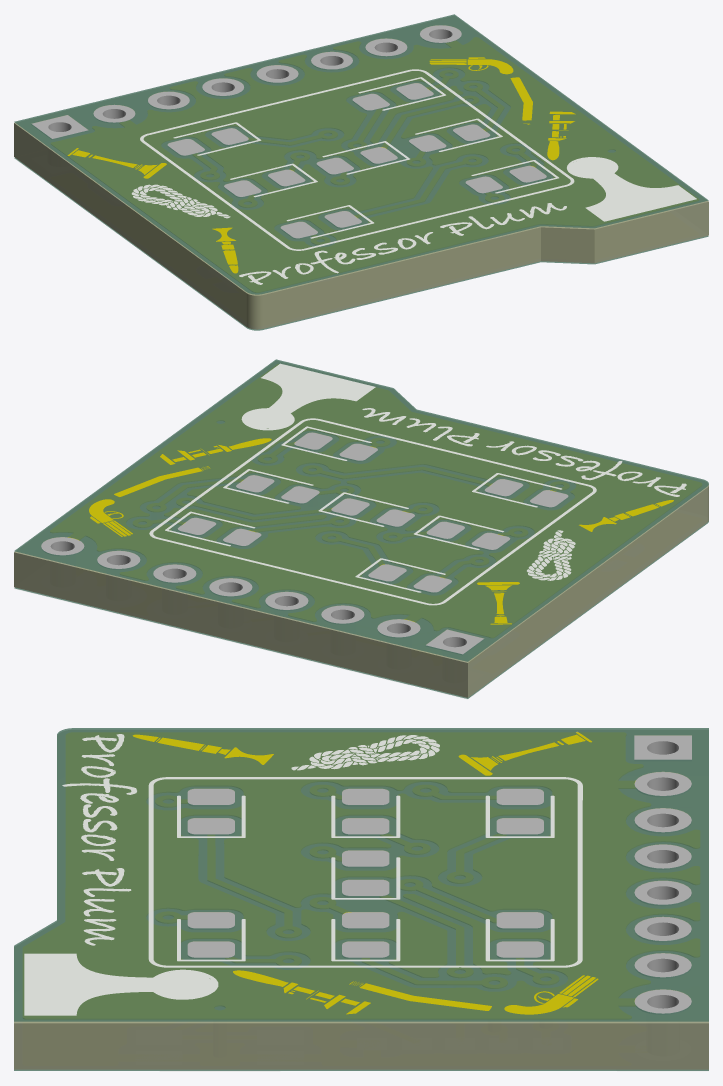
File: minibadge-dice-saintcon-d6-roller-minibadge.glb
3 renders of one model, top to bottom at view 1: azimuth 30°, elevation 25°; view 2: azimuth 150°, elevation 25°; view 3: azimuth 270°, elevation 25°, orthographic. The views are drawn at different scales.
Parts seen in each view (by area): view 1: =>[0:1:1:7], =>[0:1:1:2], =>[0:1:1:9], =>[0:1:1:5]; view 2: =>[0:1:1:7], =>[0:1:1:2], =>[0:1:1:9], =>[0:1:1:5]; view 3: =>[0:1:1:7], =>[0:1:1:2], =>[0:1:1:9], =>[0:1:1:5].
Boxes of the visible parts, bbox=[...] form: =>[0:1:1:7]: bbox=[14, 14, 708, 330]; =>[0:1:1:2]: bbox=[32, 25, 698, 292]; =>[0:1:1:9]: bbox=[14, 16, 708, 329]; =>[0:1:1:5]: bbox=[14, 69, 696, 284]; =>[0:1:1:7]: bbox=[14, 359, 708, 698]; =>[0:1:1:2]: bbox=[41, 364, 701, 654]; =>[0:1:1:9]: bbox=[14, 361, 708, 697]; =>[0:1:1:5]: bbox=[15, 363, 686, 699]; =>[0:1:1:7]: bbox=[14, 728, 708, 1070]; =>[0:1:1:2]: bbox=[23, 732, 699, 1018]; =>[0:1:1:9]: bbox=[14, 730, 708, 1069]; =>[0:1:1:5]: bbox=[24, 734, 708, 1071].
Size of the model in its own units: 0.0206 by 0.00166 by 0.0206.
4 materials, 4 textured.
